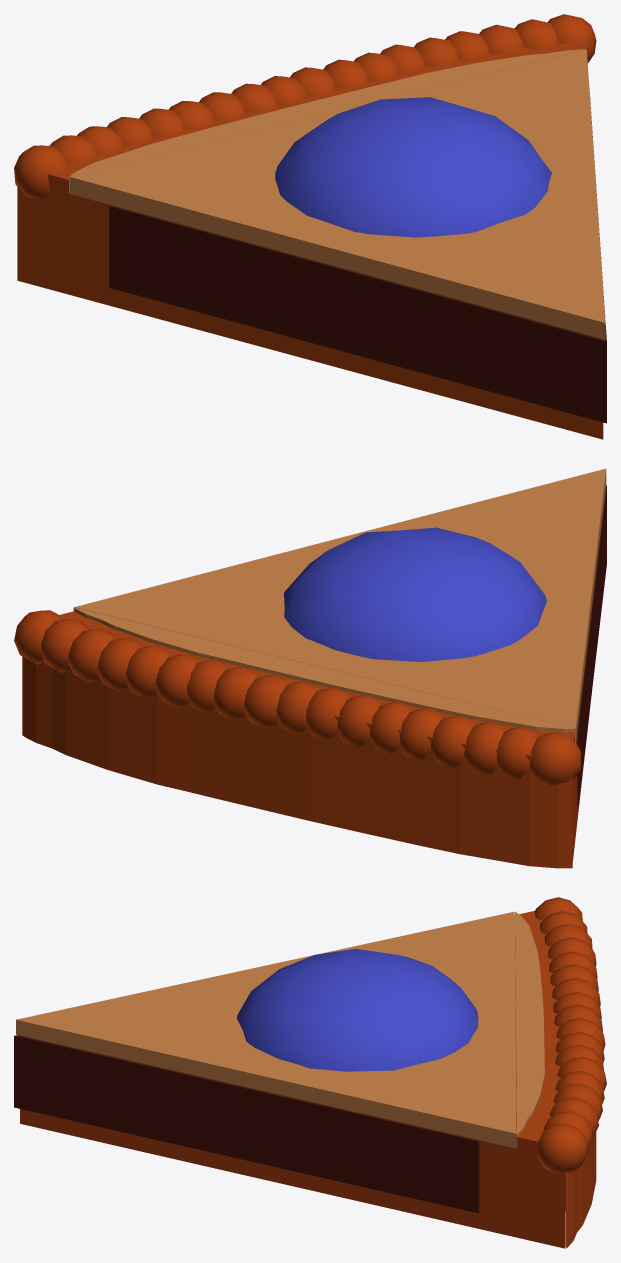
File: pie.fbx
3 views of the same model, one above another, from view 1: azimuth 30°, elevation 25°; view 2: azimuth 150°, elevation 25°; view 3: azimuth 270°, elevation 25° (orthographic). The views are drawn at different scales.
Visible parts, largest first — view 1: Line002, Line003, Sphere019, Line001, Sphere001, Sphere012, Sphere010, Sphere011, Sphere017, Sphere005, Sphere014, Sphere007 (+10 smaller); view 2: Line001, Line002, Sphere019, Line003, Sphere001, Sphere013, Sphere004, Sphere014, Sphere002, Sphere003, Sphere007, Sphere018 (+10 smaller); view 3: Line002, Line003, Sphere019, Line001, Sphere012, Sphere010, Sphere016, Sphere018, Sphere011, Sphere013, Sphere004, Sphere007 (+10 smaller).
Part boxes in pixels (<box>): Line002: <box>69,49,605,339</box>; Line003: <box>109,88,606,423</box>; Sphere019: <box>275,97,551,237</box>; Line001: <box>17,41,603,439</box>; Sphere001: <box>14,145,67,199</box>; Sphere012: <box>547,14,596,63</box>; Sphere010: <box>479,24,523,54</box>; Sphere011: <box>514,19,557,48</box>; Sphere017: <box>414,37,458,66</box>; Sphere005: <box>139,108,184,137</box>; Sphere014: <box>323,59,368,88</box>; Sphere007: <box>199,92,245,121</box>; Line001: <box>22,611,589,868</box>; Line002: <box>73,468,606,743</box>; Sphere019: <box>284,527,546,661</box>; Line003: <box>577,485,606,805</box>; Sphere001: <box>529,732,581,786</box>; Sphere013: <box>244,674,290,728</box>; Sphere004: <box>430,715,476,768</box>; Sphere014: <box>213,666,260,720</box>; Sphere002: <box>496,726,539,779</box>; Sphere003: <box>464,721,507,774</box>; Sphere007: <box>337,694,383,747</box>; Sphere018: <box>155,654,200,707</box>; Line002: <box>16,911,544,1148</box>; Line003: <box>14,1035,479,1213</box>; Sphere019: <box>237,949,478,1071</box>; Line001: <box>20,911,596,1248</box>; Sphere012: <box>537,1123,588,1173</box>; Sphere010: <box>549,1097,598,1137</box>; Sphere016: <box>553,1083,602,1120</box>; Sphere018: <box>557,1056,606,1091</box>; Sphere011: <box>543,1111,593,1149</box>; Sphere013: <box>556,1018,605,1050</box>; Sphere004: <box>548,937,596,966</box>; Sphere007: <box>552,978,600,1006</box>.
Bounding box in the file's own units: 4.22 × 1.26 × 4.27.
